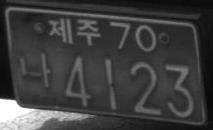0: (134, 22, 157, 52)
1: (96, 56, 123, 111)
2: (129, 59, 162, 117)
3: (163, 62, 195, 119)
4: (63, 54, 93, 108)
7: (108, 19, 132, 50)
나: (18, 50, 52, 89)
제주_O: (47, 16, 100, 47)
